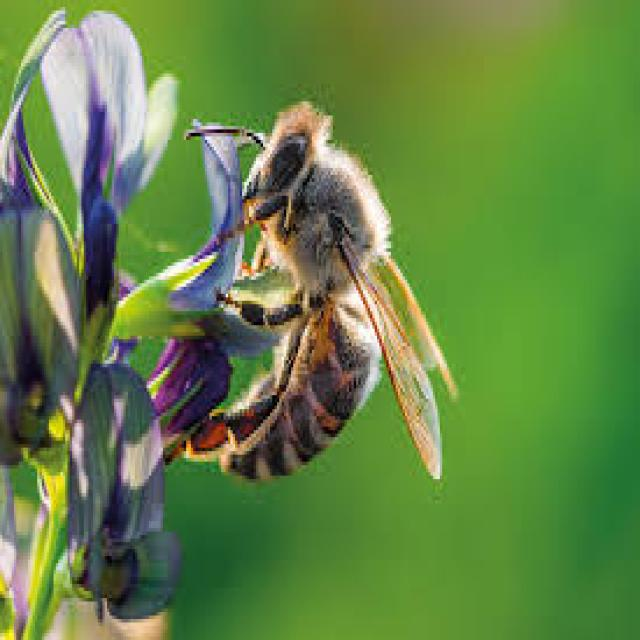Bees: (183, 99, 460, 485)
